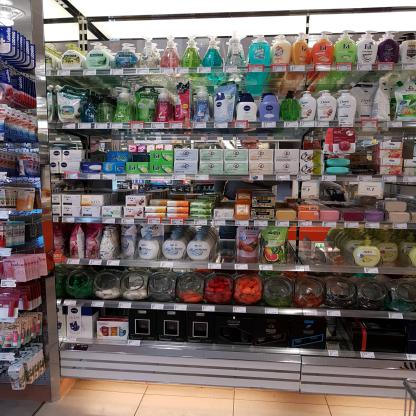Void: (155, 134, 300, 148), (327, 318, 355, 349), (215, 227, 233, 262), (113, 134, 150, 151), (84, 133, 104, 162), (278, 182, 294, 210), (218, 182, 233, 209)
